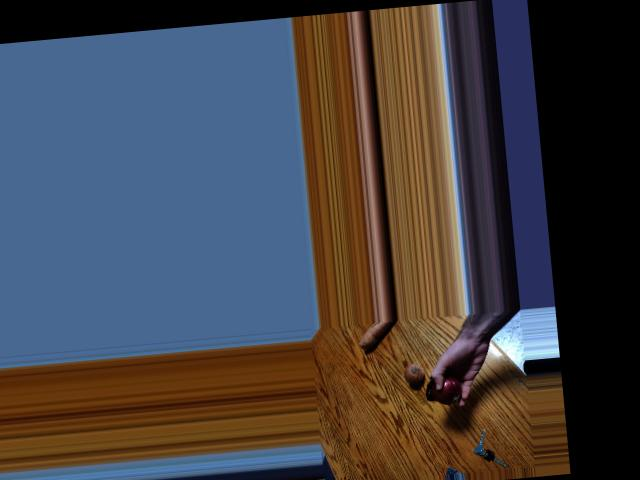onion: (430, 376, 463, 405)
